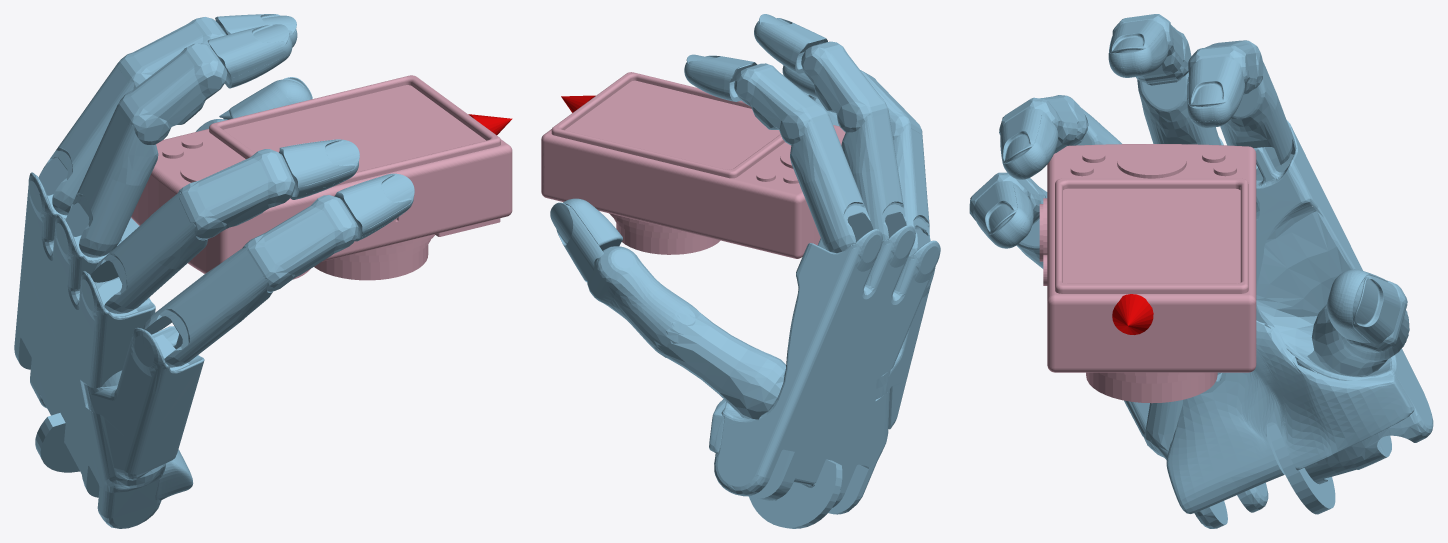
3 views of the same model, side by side, from view 1: azimuth 30°, elevation 25°; view 2: azimuth 150°, elevation 25°; view 3: azimuth 270°, elevation 25° (orthographic). The views are drawn at different scales.
Parts seen in each view (by area): view 1: world, camera.stl; view 2: world, camera.stl; view 3: world, camera.stl.
Boxes of the visible parts, x1,y1,x2,y2 form: world: (14,14,512,528); camera.stl: (131,75,512,280); world: (550,14,940,528); camera.stl: (541,72,845,258); world: (969,14,1433,528); camera.stl: (1039,144,1256,403).
Bounding box in the file's own units: 0.1632 × 0.1851 × 0.1437.
